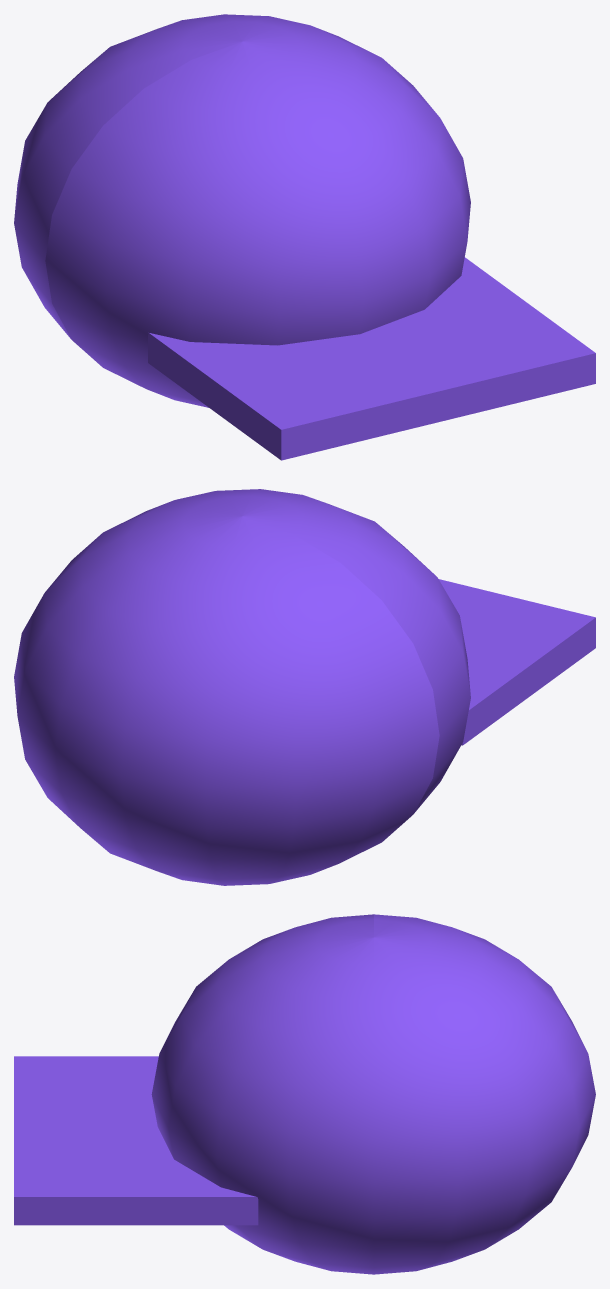
Rendered from cap-violet-v1.glb.
The picture shows the model from 3 angles, top to bottom: view 1: azimuth 30°, elevation 25°; view 2: azimuth 150°, elevation 25°; view 3: azimuth 270°, elevation 25°; orthographic projection. The views are drawn at different scales.
Visible parts, largest first — view 1: cap_dome, cap_visor; view 2: cap_dome, cap_visor; view 3: cap_dome, cap_visor.
Part boxes in pixels (bbox=[...]): cap_dome: bbox=[14, 14, 470, 407]; cap_visor: bbox=[148, 257, 595, 460]; cap_dome: bbox=[14, 489, 470, 885]; cap_visor: bbox=[438, 579, 595, 745]; cap_dome: bbox=[151, 914, 595, 1274]; cap_visor: bbox=[14, 1056, 258, 1225].
Size of the model in its own units: 0.188 by 0.156 by 0.262.
